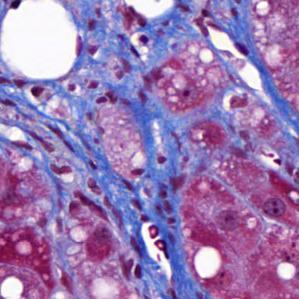inflammation: (139, 222, 176, 259), (89, 86, 137, 109), (188, 10, 220, 38)
